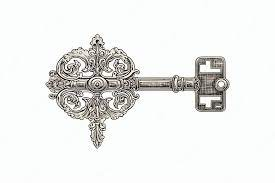key: (31, 27, 250, 153)
